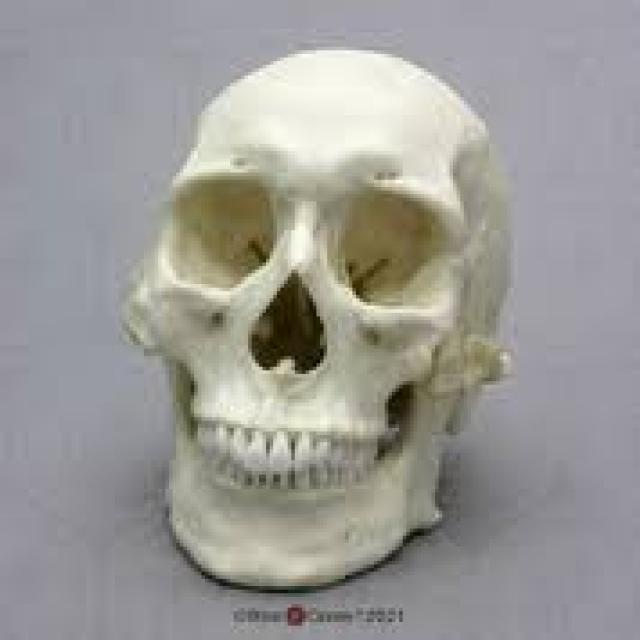skull: (110, 42, 556, 594)
